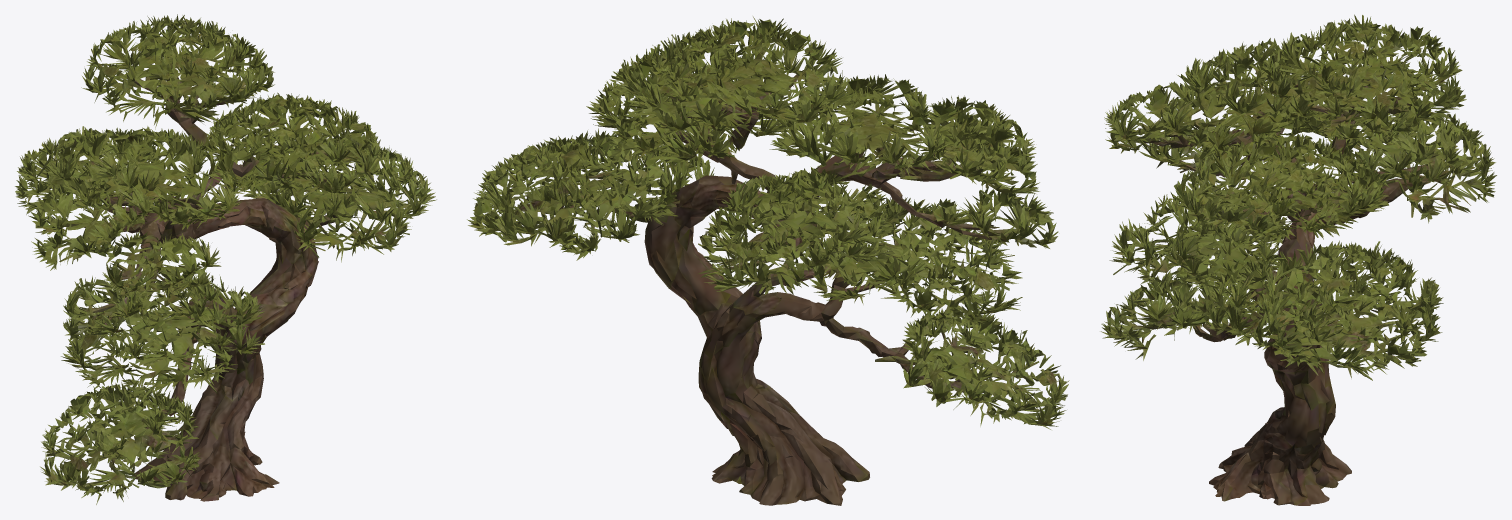
Rendered from lib_bonsai.glb.
3 views of the same model, side by side, from view 1: azimuth 30°, elevation 25°; view 2: azimuth 150°, elevation 25°; view 3: azimuth 270°, elevation 25° (orthographic). The views are drawn at different scales.
Visible parts, largest first — view 1: output_unwrapped; view 2: output_unwrapped; view 3: output_unwrapped.
Boxes of the visible parts, x1,y1,x2,y2 form: output_unwrapped: (15, 14, 436, 504); output_unwrapped: (467, 16, 1069, 505); output_unwrapped: (1100, 14, 1496, 505).
Size of the model in its own units: 2 by 1.81 by 1.45.
1 material, 1 textured.
